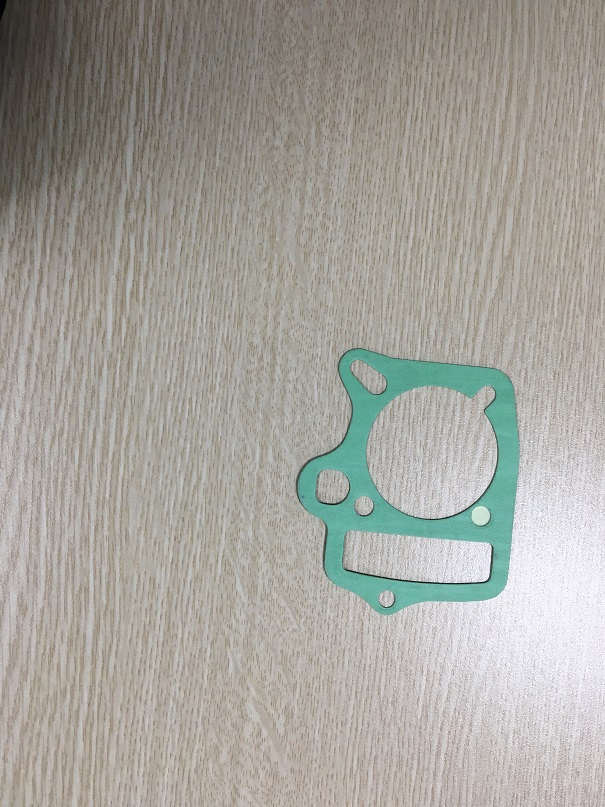type4: (284, 336, 528, 626)
